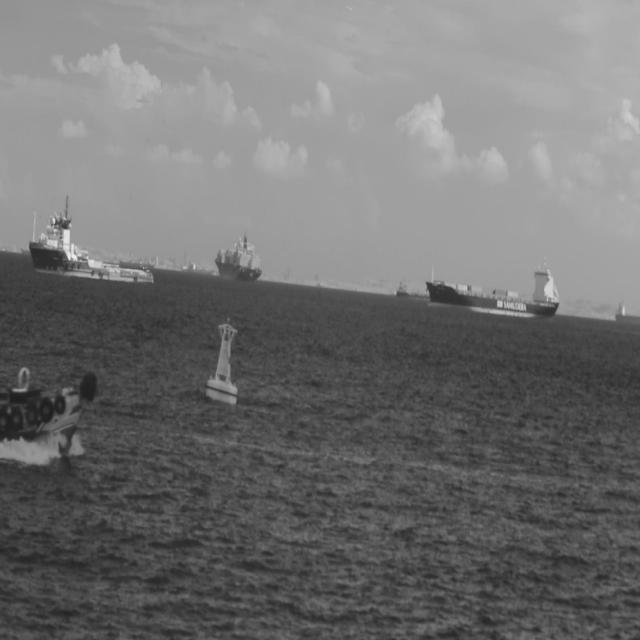buoy: (204, 315, 239, 408)
ship: (28, 194, 156, 286), (0, 366, 99, 472), (425, 254, 561, 322), (214, 230, 264, 284), (396, 278, 430, 302), (182, 260, 216, 278), (119, 258, 154, 270), (138, 260, 150, 272)
